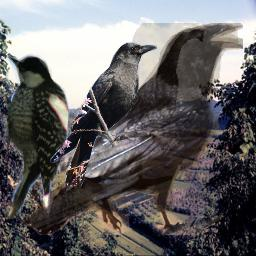Crow: (22, 23, 243, 235), (50, 41, 157, 186)
Woodpecker: (5, 54, 70, 219)
